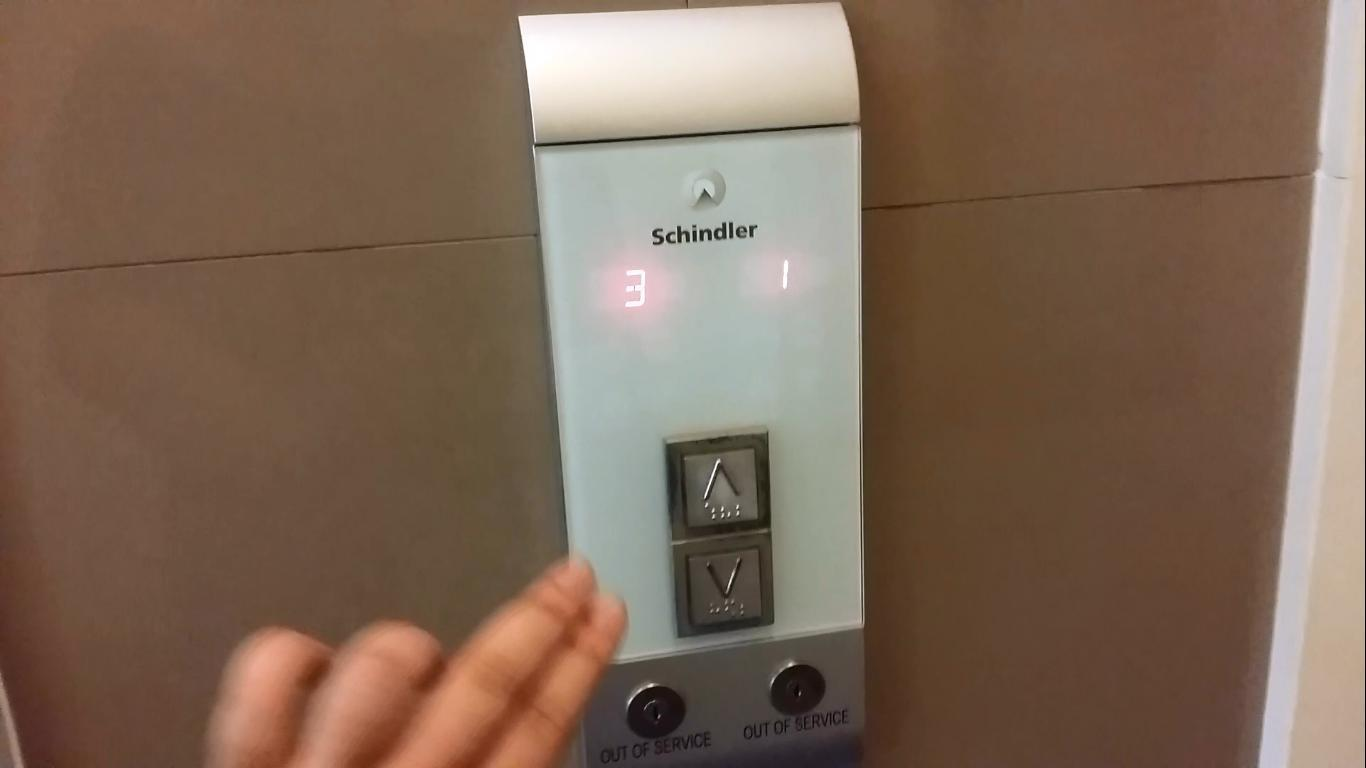down: (667, 528, 776, 641)
keyhole: (618, 680, 690, 740), (764, 656, 827, 718)
up: (657, 421, 779, 543)
